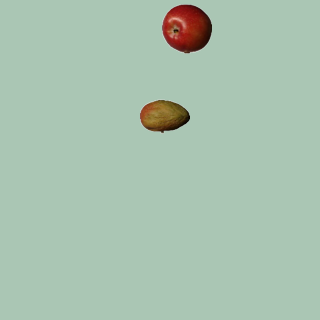Apple Braeburn: (161, 3, 211, 53)
Papaya: (139, 91, 189, 141)
